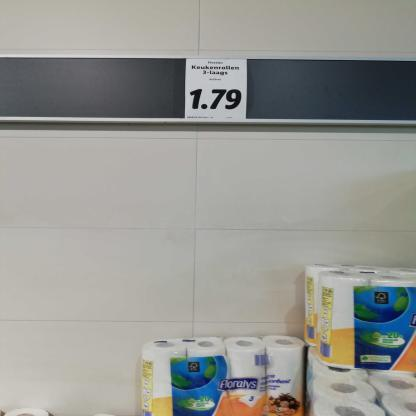prtg: (186, 59, 247, 120)
